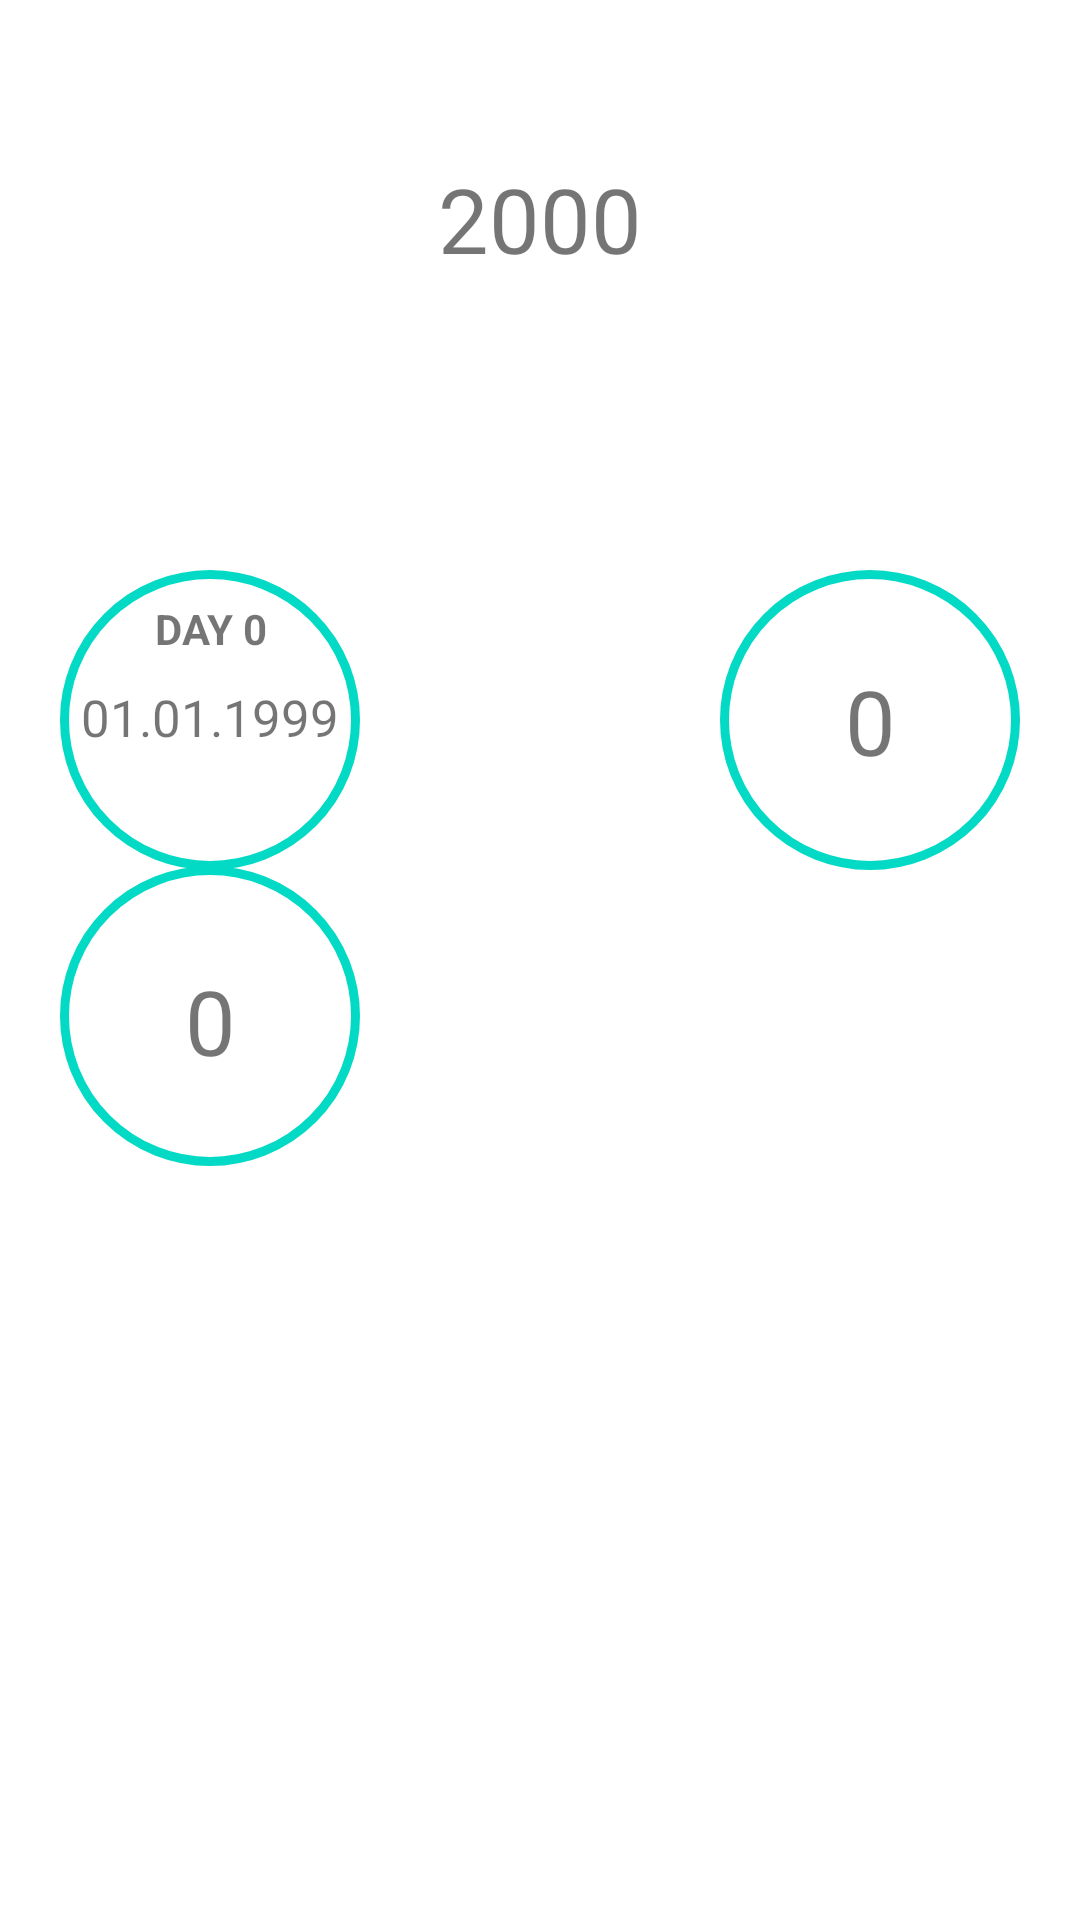

Locate icon controls on the screen. Image size 1080 x 1920, boxes as (x1, y1, x2, y2).
circle: (60, 570, 360, 870), (720, 570, 1020, 870), (60, 866, 360, 1166)
